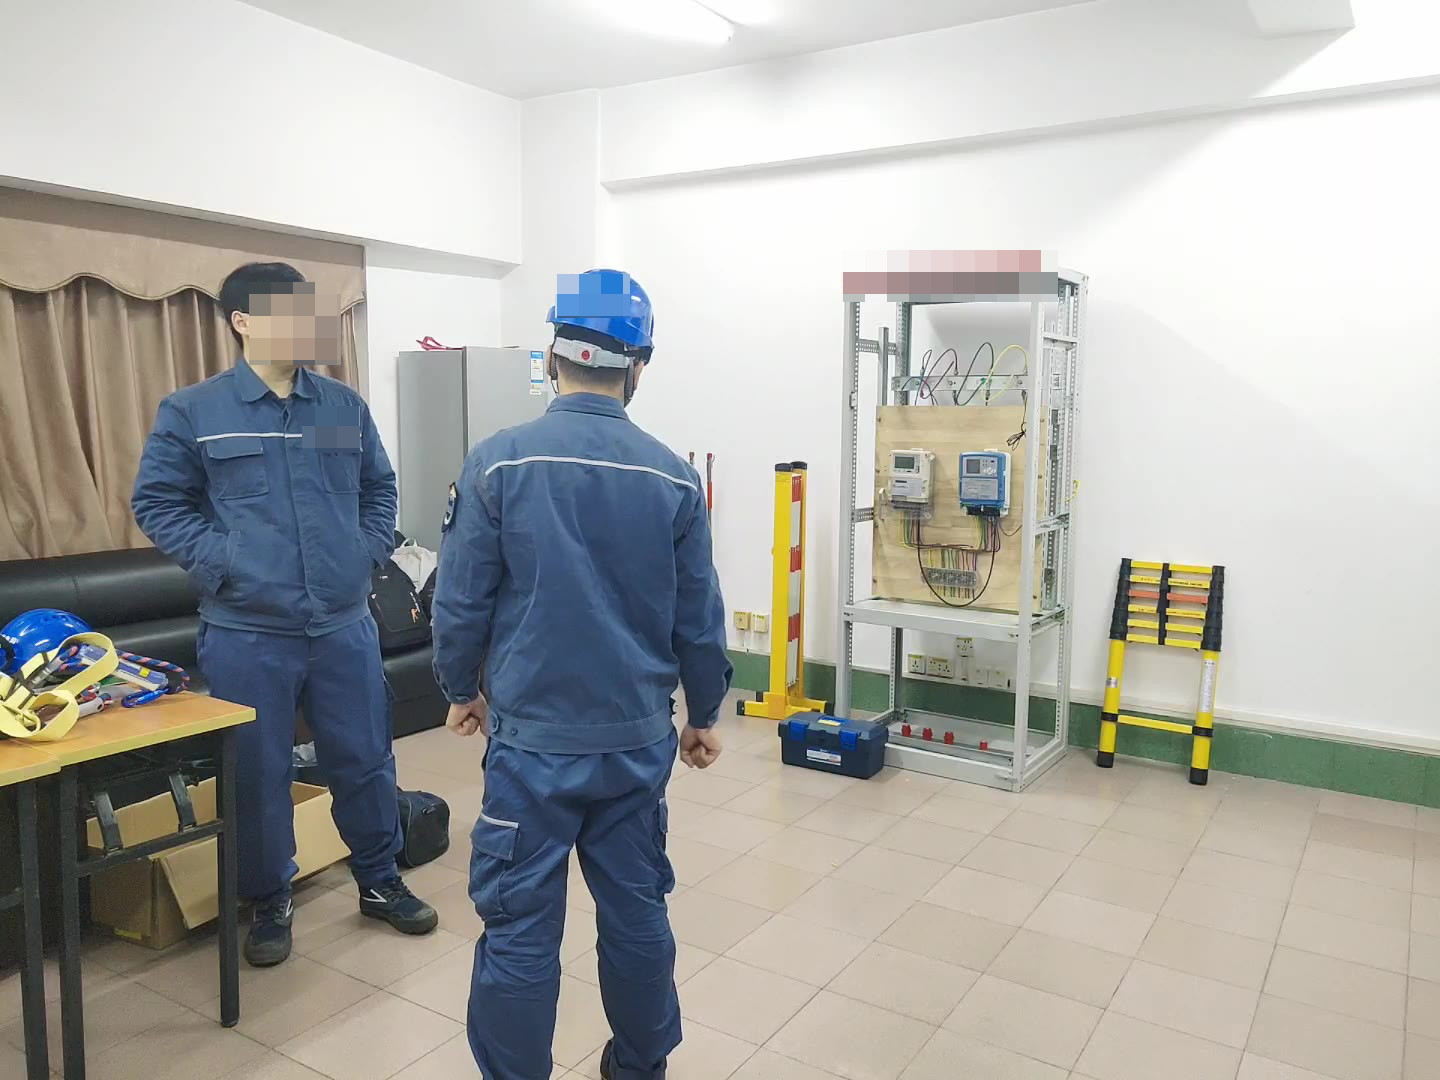downsuit: (460, 747, 682, 1080), (195, 639, 409, 901)
halt: (542, 266, 660, 396)
hand: (676, 723, 724, 770), (445, 693, 490, 742)
inear: (615, 357, 648, 404)
noear: (228, 292, 293, 359)
person: (426, 259, 739, 1080), (125, 252, 436, 967)
sleeve: (437, 475, 461, 536)
unhalt: (216, 258, 324, 374)
upsuit: (419, 394, 732, 746), (128, 362, 404, 634)
